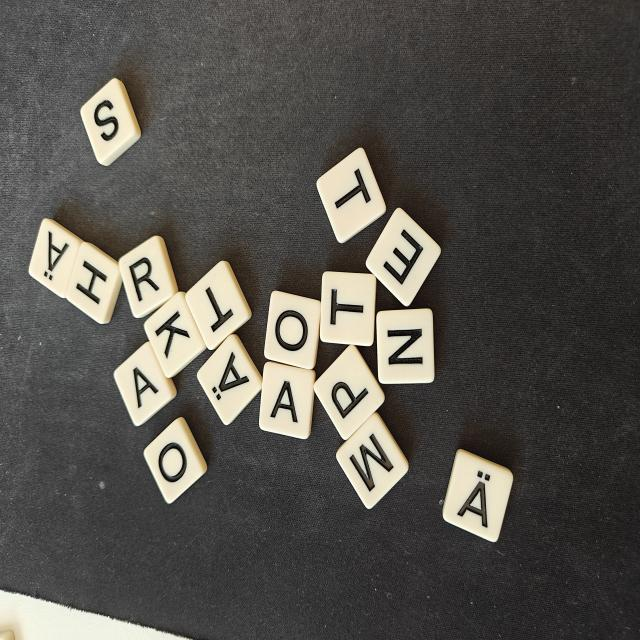a: (114, 342, 177, 425), (259, 362, 315, 439)
a_dot: (443, 449, 513, 542), (197, 334, 262, 425), (29, 218, 82, 298)
e: (366, 208, 441, 306)
h: (66, 242, 122, 324)
k: (144, 292, 206, 377)
m: (336, 413, 409, 508)
n: (376, 308, 435, 384)
o: (144, 417, 207, 503), (264, 291, 321, 369)
p: (314, 345, 385, 440)
r: (119, 235, 178, 318)
s: (80, 78, 140, 166)
t: (317, 148, 386, 243), (186, 261, 252, 349), (320, 271, 377, 346)
